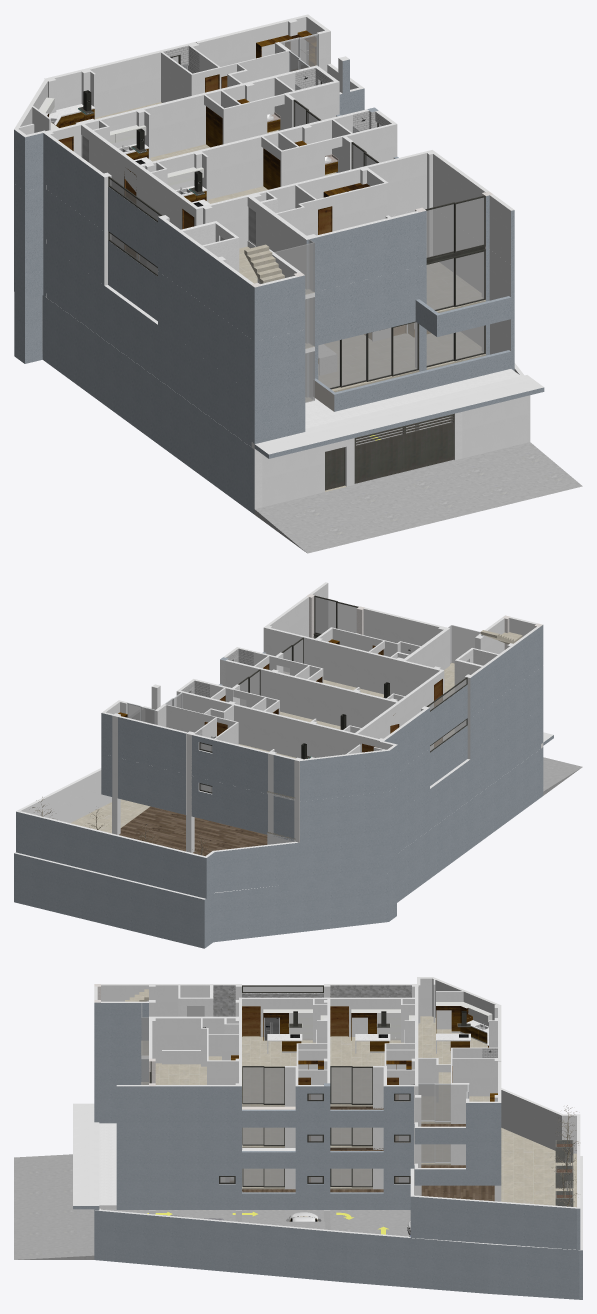
Rendered from torre-arbide-4niveles-lite.glb.
3 views of the same model, one above another, from view 1: azimuth 30°, elevation 25°; view 2: azimuth 150°, elevation 25°; view 3: azimuth 270°, elevation 25° (orthographic). The views are drawn at different scales.
Parts seen in each view (by area): view 1: NIVEL03, PlantaBaja, NIVEL01, NIVEL02; view 2: NIVEL03, NIVEL01, PlantaBaja, NIVEL02; view 3: NIVEL03, PlantaBaja, NIVEL01, NIVEL02.
Part boxes in pixels (<box>): NIVEL03: <box>14,14,514,341</box>; PlantaBaja: <box>14,292,582,553</box>; NIVEL01: <box>14,238,520,447</box>; NIVEL02: <box>14,184,514,395</box>; NIVEL03: <box>101,582,543,801</box>; NIVEL01: <box>16,706,543,898</box>; PlantaBaja: <box>14,732,582,948</box>; NIVEL02: <box>101,624,543,842</box>; NIVEL03: <box>94,977,501,1144</box>; PlantaBaja: <box>14,1103,582,1299</box>; NIVEL01: <box>94,1085,580,1249</box>; NIVEL02: <box>94,1044,501,1185</box>.
Bounding box in the file's own units: 2.19 × 1.22 × 3.53.
166 materials, 51 textured.
